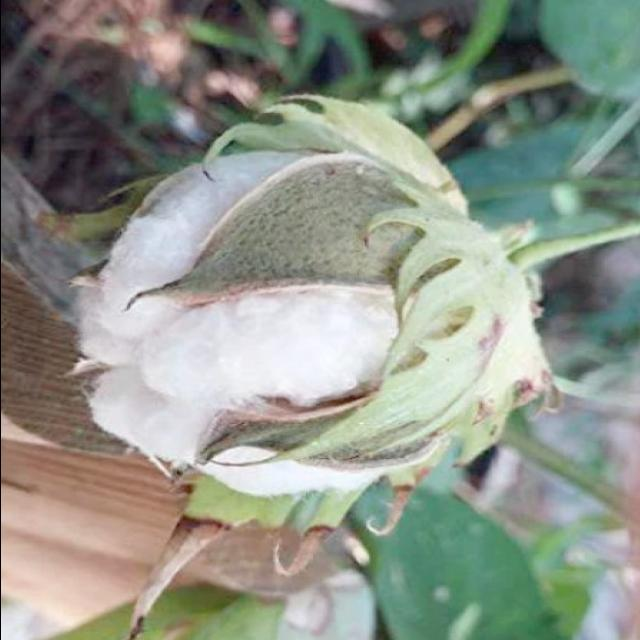Split Cotton Boll: (90, 96, 550, 476)
